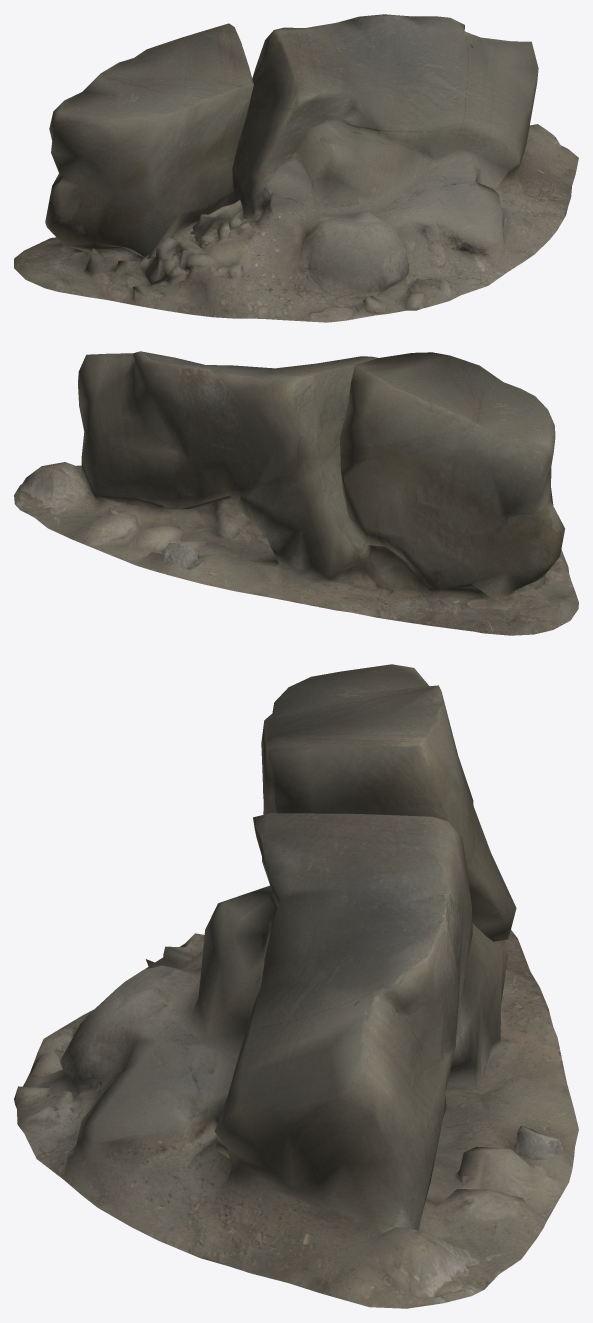
Rendered from sandstone_boulder_vmiibev_low.glb.
3 views of the same model, one above another, from view 1: azimuth 30°, elevation 25°; view 2: azimuth 150°, elevation 25°; view 3: azimuth 270°, elevation 25° (orthographic). The views are drawn at different scales.
Parts seen in each view (by area): view 1: vmiibev_LOD0_TIER3_000; view 2: vmiibev_LOD0_TIER3_000; view 3: vmiibev_LOD0_TIER3_000.
Boxes of the visible parts, <box> form: vmiibev_LOD0_TIER3_000: <box>14,14,578,322</box>; vmiibev_LOD0_TIER3_000: <box>14,351,578,635</box>; vmiibev_LOD0_TIER3_000: <box>14,664,578,1308</box>.
Size of the model in its own units: 2.5 by 0.9035 by 1.46.
Materials: 1 (1 with a texture image).
